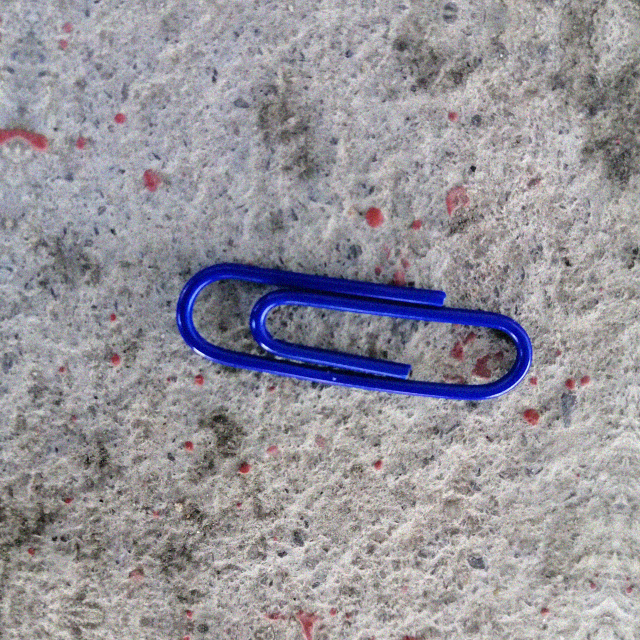pin: (177, 265, 532, 405)
